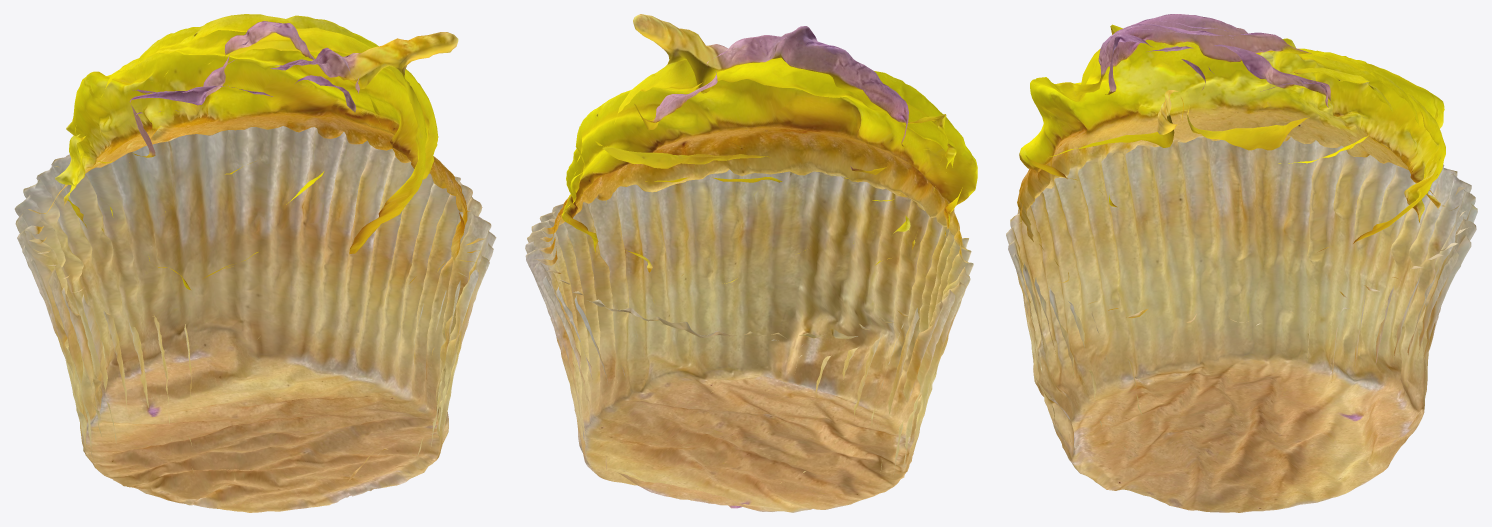
File: cupcake3.glb
The picture shows the model from 3 angles, left to right: view 1: azimuth 30°, elevation 25°; view 2: azimuth 150°, elevation 25°; view 3: azimuth 270°, elevation 25°; orthographic projection. The views are drawn at different scales.
Parts seen in each view (by area): view 1: Object_4; view 2: Object_4; view 3: Object_4.
Boxes of the visible parts, <box> form: Object_4: <box>14,14,496,512</box>; Object_4: <box>525,14,977,512</box>; Object_4: <box>1006,14,1477,512</box>.
Size of the model in its own units: 0.4349 by 0.4145 by 0.4365.
Materials: 1 (1 with a texture image).
